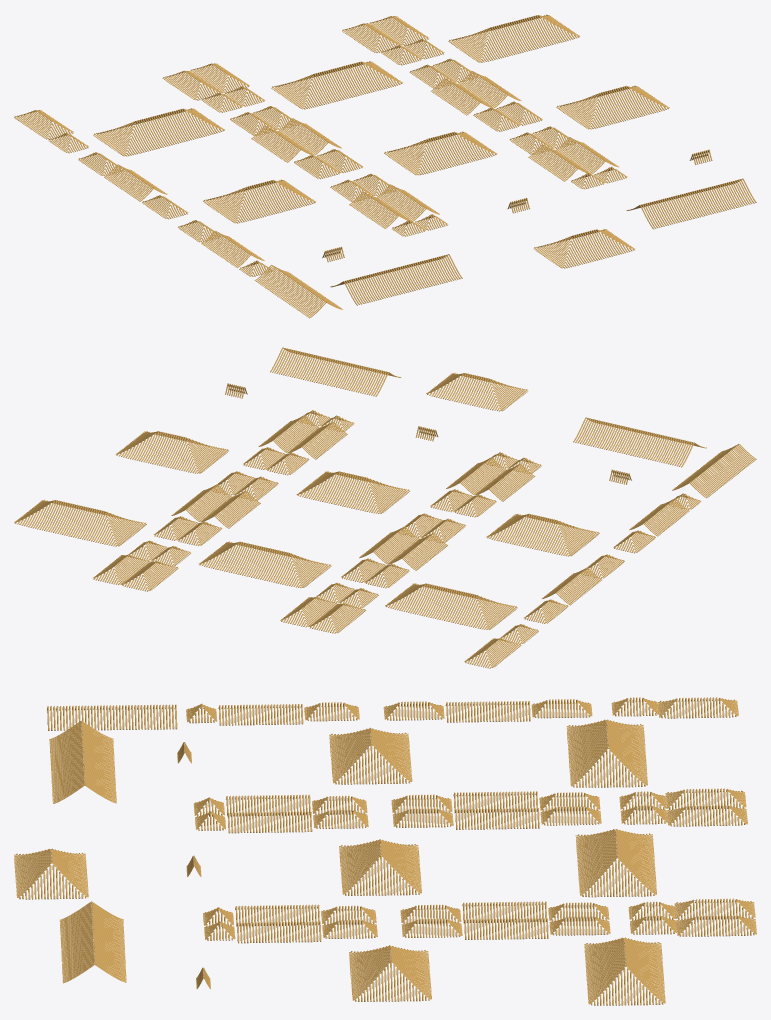
Rendered from roof-tiles-6-5.glb.
3 renders of one model, top to bottom at view 1: azimuth 30°, elevation 25°; view 2: azimuth 150°, elevation 25°; view 3: azimuth 270°, elevation 25°, orthographic. The views are drawn at different scales.
Visible parts, largest first — view 1: roof-tiles-6-5_micro_Roof_Glazed_Ochre; view 2: roof-tiles-6-5_micro_Roof_Glazed_Ochre; view 3: roof-tiles-6-5_micro_Roof_Glazed_Ochre.
Boxes of the visible parts, x1=… form: roof-tiles-6-5_micro_Roof_Glazed_Ochre: x1=14, y1=14, x2=756, y2=318; roof-tiles-6-5_micro_Roof_Glazed_Ochre: x1=14, y1=347, x2=756, y2=668; roof-tiles-6-5_micro_Roof_Glazed_Ochre: x1=14, y1=697, x2=756, y2=1005.
Size of the model in its own units: 0.9204 by 0.0328 by 0.9461.
